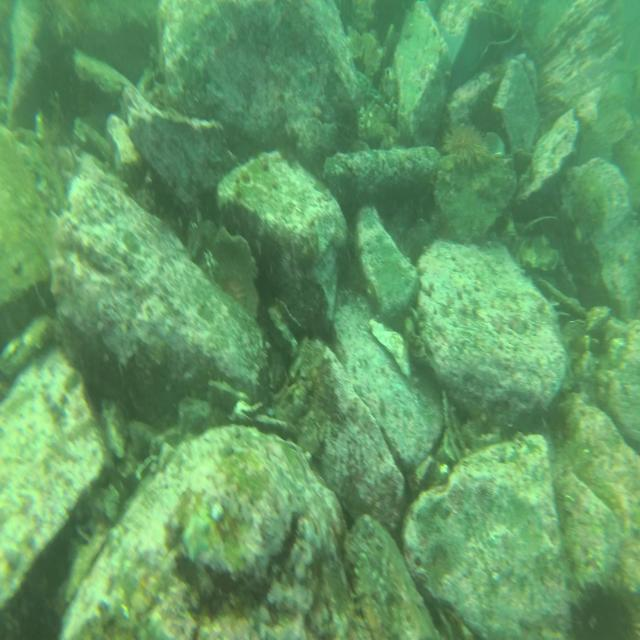echinus: (567, 582, 640, 638), (444, 122, 492, 174)
